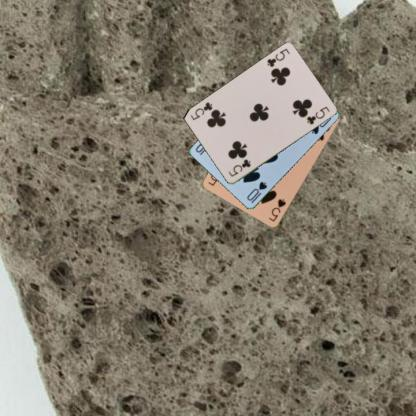10s: (244, 179, 269, 205)
5c: (264, 46, 290, 69), (226, 157, 252, 178)
5s: (266, 196, 288, 223)
